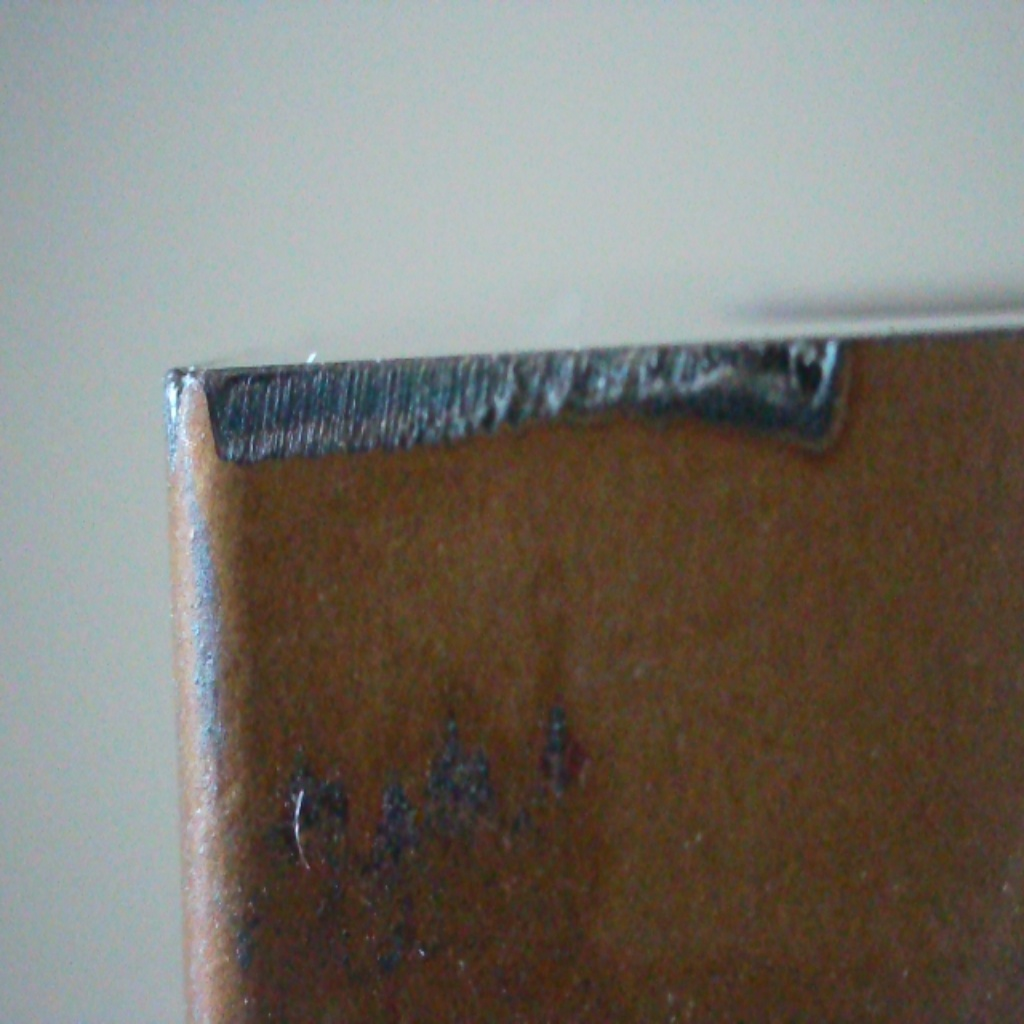flank_wear: (150, 321, 862, 482)
